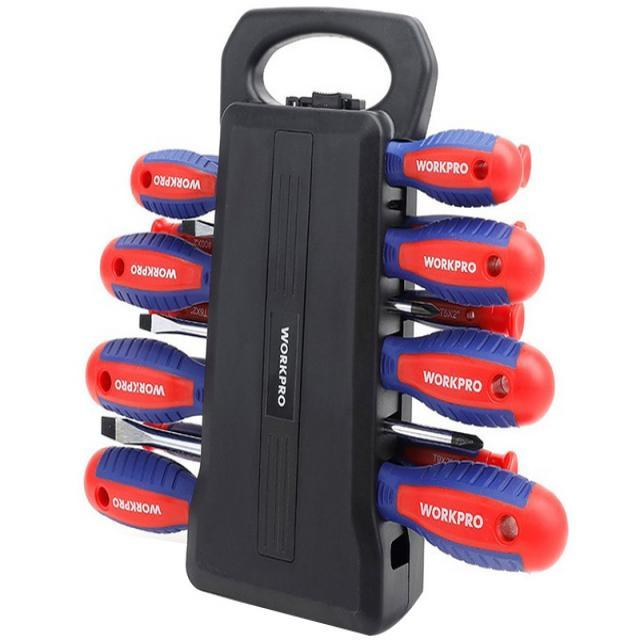screwdriver: (98, 414, 576, 577), (83, 332, 486, 456), (138, 310, 560, 428), (173, 215, 557, 310), (91, 226, 442, 324)
